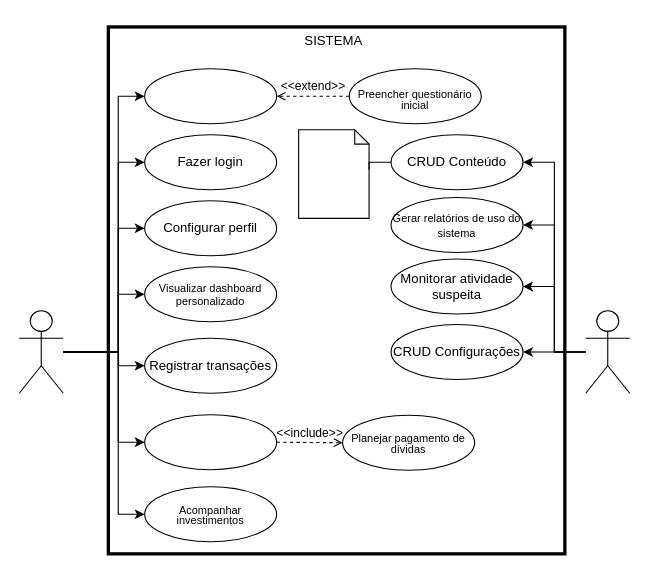
Image size: 668x574. Some labels were removed from this diagram. The shapes that lost their labels are listed below. From the top down, each one's centre as x and y in pixels, then its label:
At point 210,96: "Fazer Cadastro".
At point 333,173: "Conteúdo: artigos, produtos, cursos".
At point 40,351: "Usuário".
At point 607,351: "Administrador".
At point 210,442: "Gerenciar metas financeiras".
